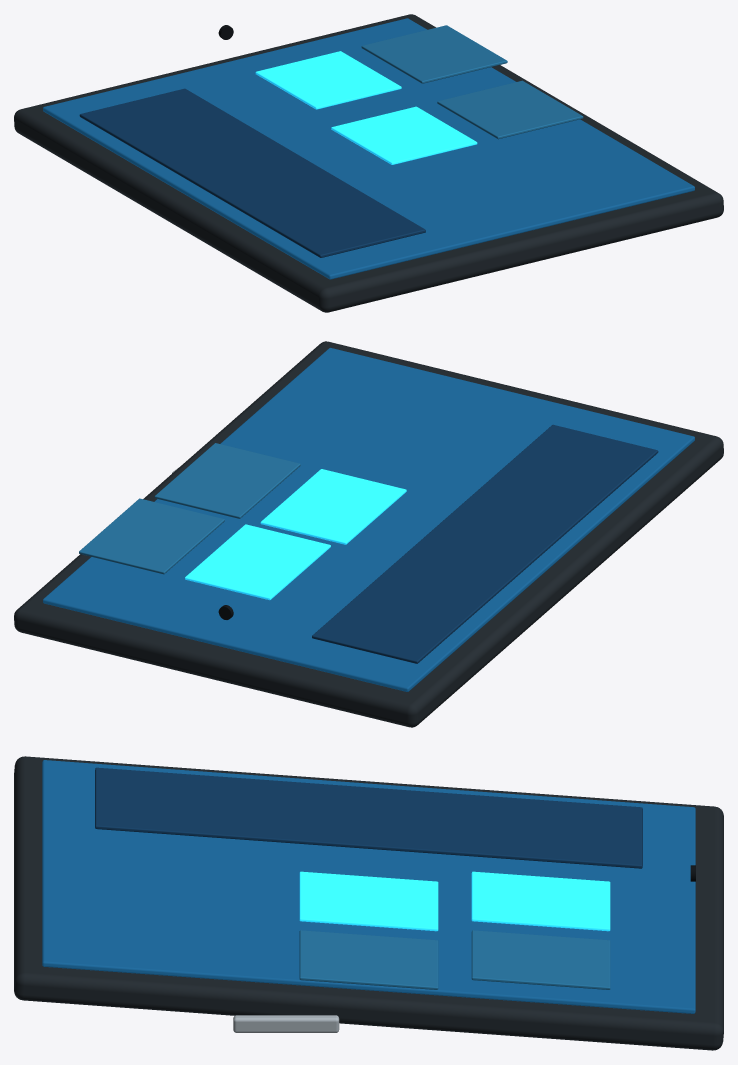
The model's file is tablet.glb.
3 views of the same model, one above another, from view 1: azimuth 30°, elevation 25°; view 2: azimuth 150°, elevation 25°; view 3: azimuth 270°, elevation 25° (orthographic). The views are drawn at different scales.
Parts seen in each view (by area): view 1: Tablet display, Tablet aluminium chassis, Productivity sidebar, Application tile (×4); view 2: Tablet display, Tablet aluminium chassis, Productivity sidebar, Application tile (×4); view 3: Tablet display, Tablet aluminium chassis, Productivity sidebar, Application tile (×4), Volume rocker.
Boxes of the visible parts, x1=… form: Tablet display: x1=43, y1=18, x2=694, y2=279; Tablet aluminium chassis: x1=14, y1=14, x2=723, y2=312; Productivity sidebar: x1=79, y1=88, x2=425, y2=257; Application tile (×4): x1=255, y1=25, x2=583, y2=164; Tablet display: x1=43, y1=347, x2=694, y2=691; Tablet aluminium chassis: x1=14, y1=341, x2=723, y2=727; Productivity sidebar: x1=312, y1=424, x2=658, y2=663; Application tile (×4): x1=79, y1=443, x2=406, y2=600; Tablet display: x1=42, y1=760, x2=695, y2=1013; Tablet aluminium chassis: x1=14, y1=756, x2=723, y2=1050; Productivity sidebar: x1=95, y1=767, x2=642, y2=868; Application tile (×4): x1=299, y1=871, x2=610, y2=989; Volume rocker: x1=233, y1=1015, x2=339, y2=1032.
Bounding box in the file's own units: 1.64 × 0.271 × 2.15.
